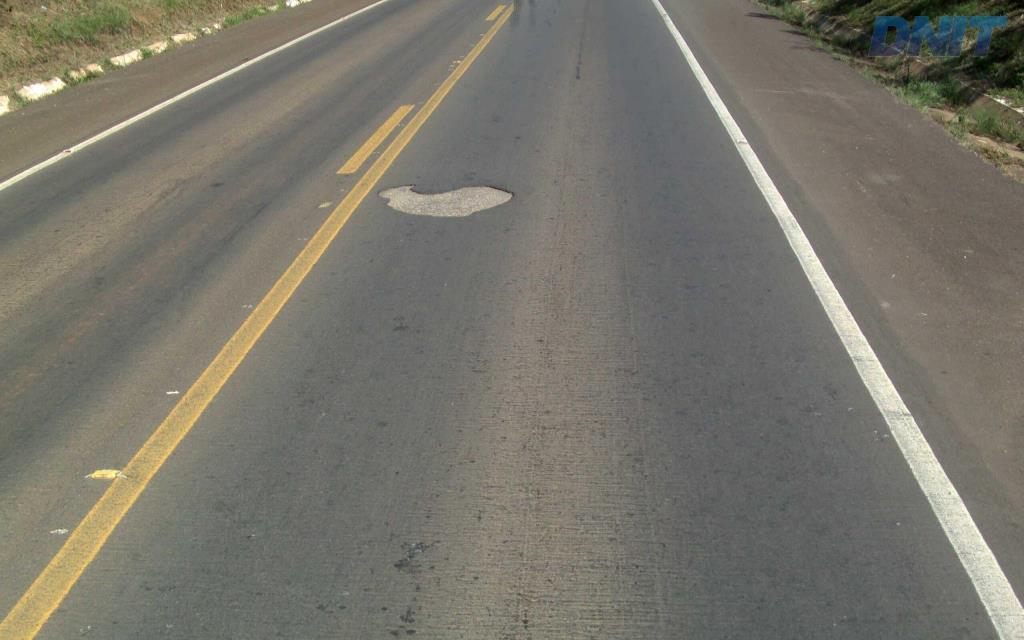pothole: (372, 177, 523, 221)
